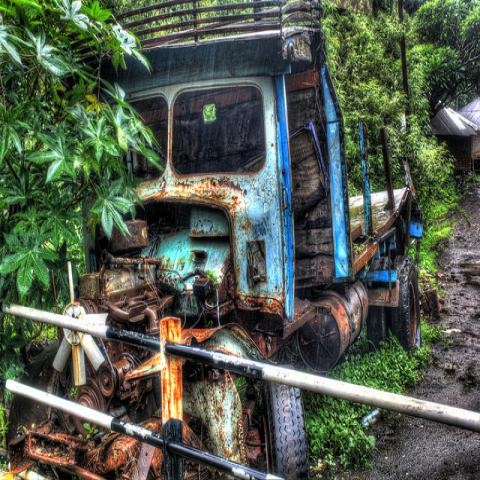truck: (6, 0, 424, 479)
